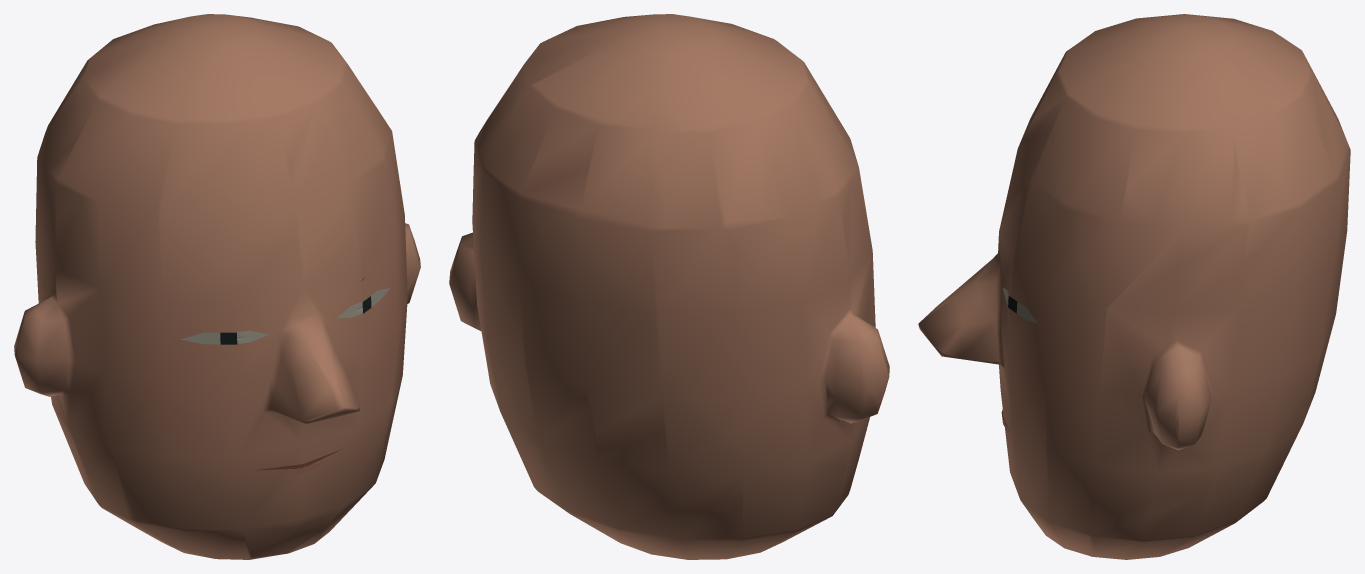
Rendered from face_02_angular.glb.
The picture shows the model from 3 angles, left to right: view 1: azimuth 30°, elevation 25°; view 2: azimuth 150°, elevation 25°; view 3: azimuth 270°, elevation 25°; orthographic projection. The views are drawn at different scales.
Visible parts, largest first — view 1: Face_02_Angular; view 2: Face_02_Angular; view 3: Face_02_Angular.
Boxes of the visible parts, x1=… form: Face_02_Angular: x1=14, y1=14, x2=420, y2=559; Face_02_Angular: x1=449, y1=14, x2=889, y2=559; Face_02_Angular: x1=918, y1=14, x2=1350, y2=559.
Size of the model in its own units: 0.2467 by 0.2781 by 0.2217.
